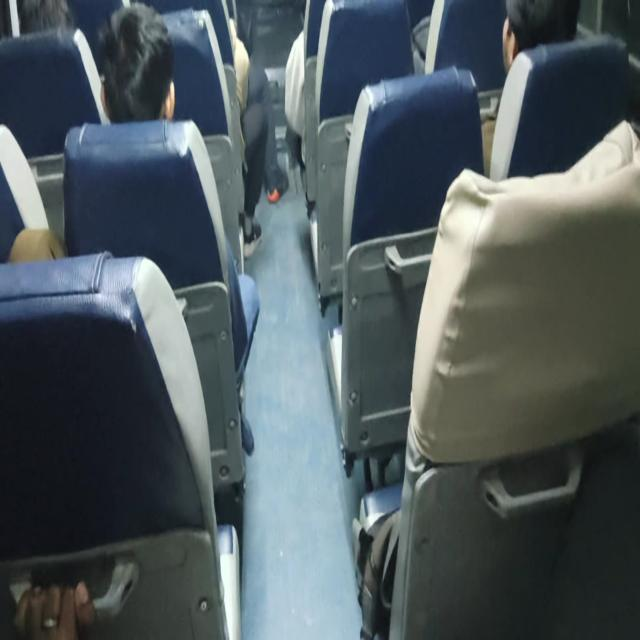person: (104, 17, 178, 124), (507, 0, 573, 53), (21, 0, 83, 53)
